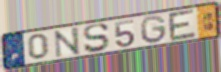0: (27, 32, 51, 61)
5: (113, 18, 136, 48)
E: (167, 7, 198, 43)
G: (139, 14, 168, 45)
N: (53, 26, 83, 59)
S: (82, 22, 111, 54)
